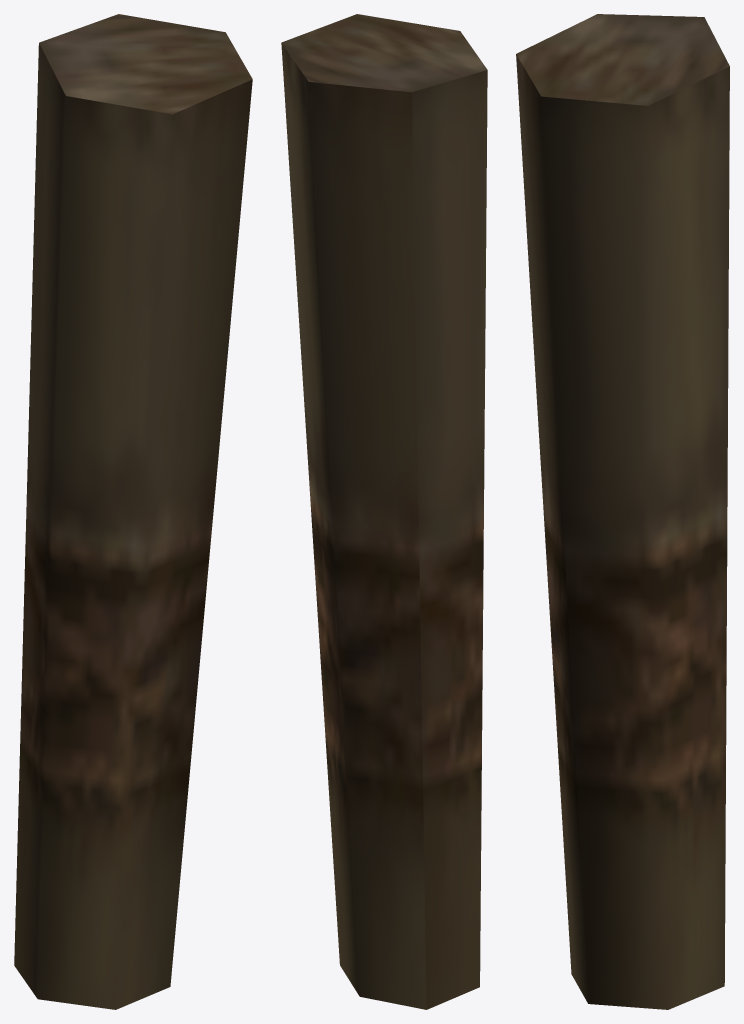
3 views of the same model, side by side, from view 1: azimuth 30°, elevation 25°; view 2: azimuth 150°, elevation 25°; view 3: azimuth 270°, elevation 25° (orthographic). The views are drawn at different scales.
Parts seen in each view (by area): view 1: MB0002_25_01; view 2: MB0002_25_01; view 3: MB0002_25_01.
Boxes of the visible parts, left/top/right/bottom form: MB0002_25_01: left=14, top=14, right=252, bottom=1009; MB0002_25_01: left=281, top=14, right=487, bottom=1009; MB0002_25_01: left=516, top=14, right=729, bottom=1009.
Size of the model in its own units: 0.2983 by 1.35 by 0.2755.
